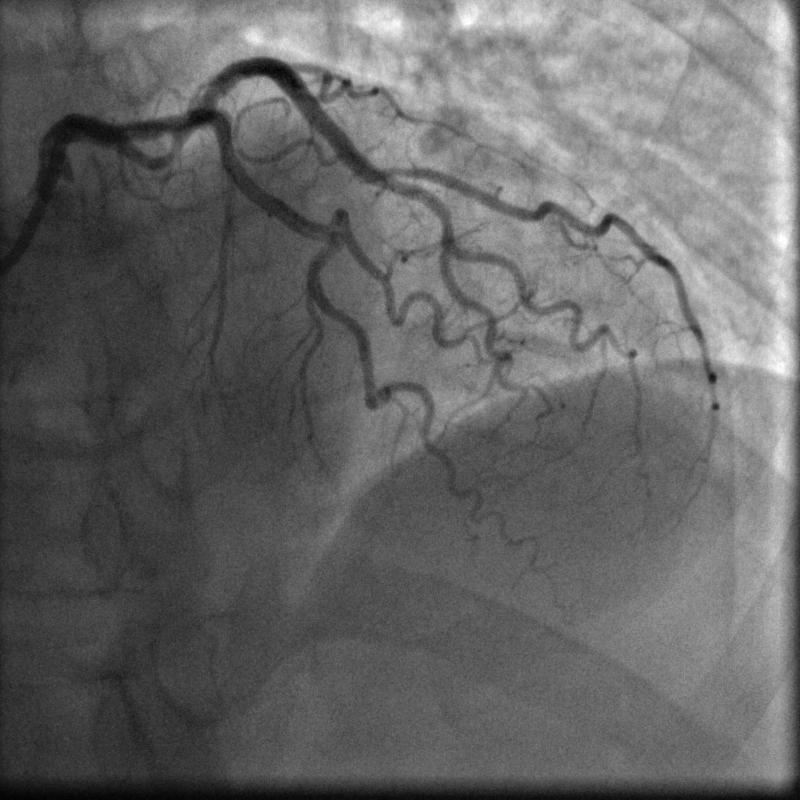Stenosis: (148, 131, 189, 161)
